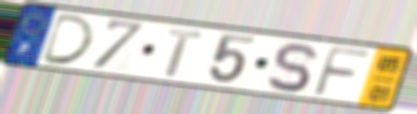5: (207, 32, 259, 86)
7: (89, 17, 148, 72)
D: (38, 12, 98, 67)
F: (309, 44, 373, 99)
S: (265, 41, 319, 94)
T: (163, 28, 206, 80)
